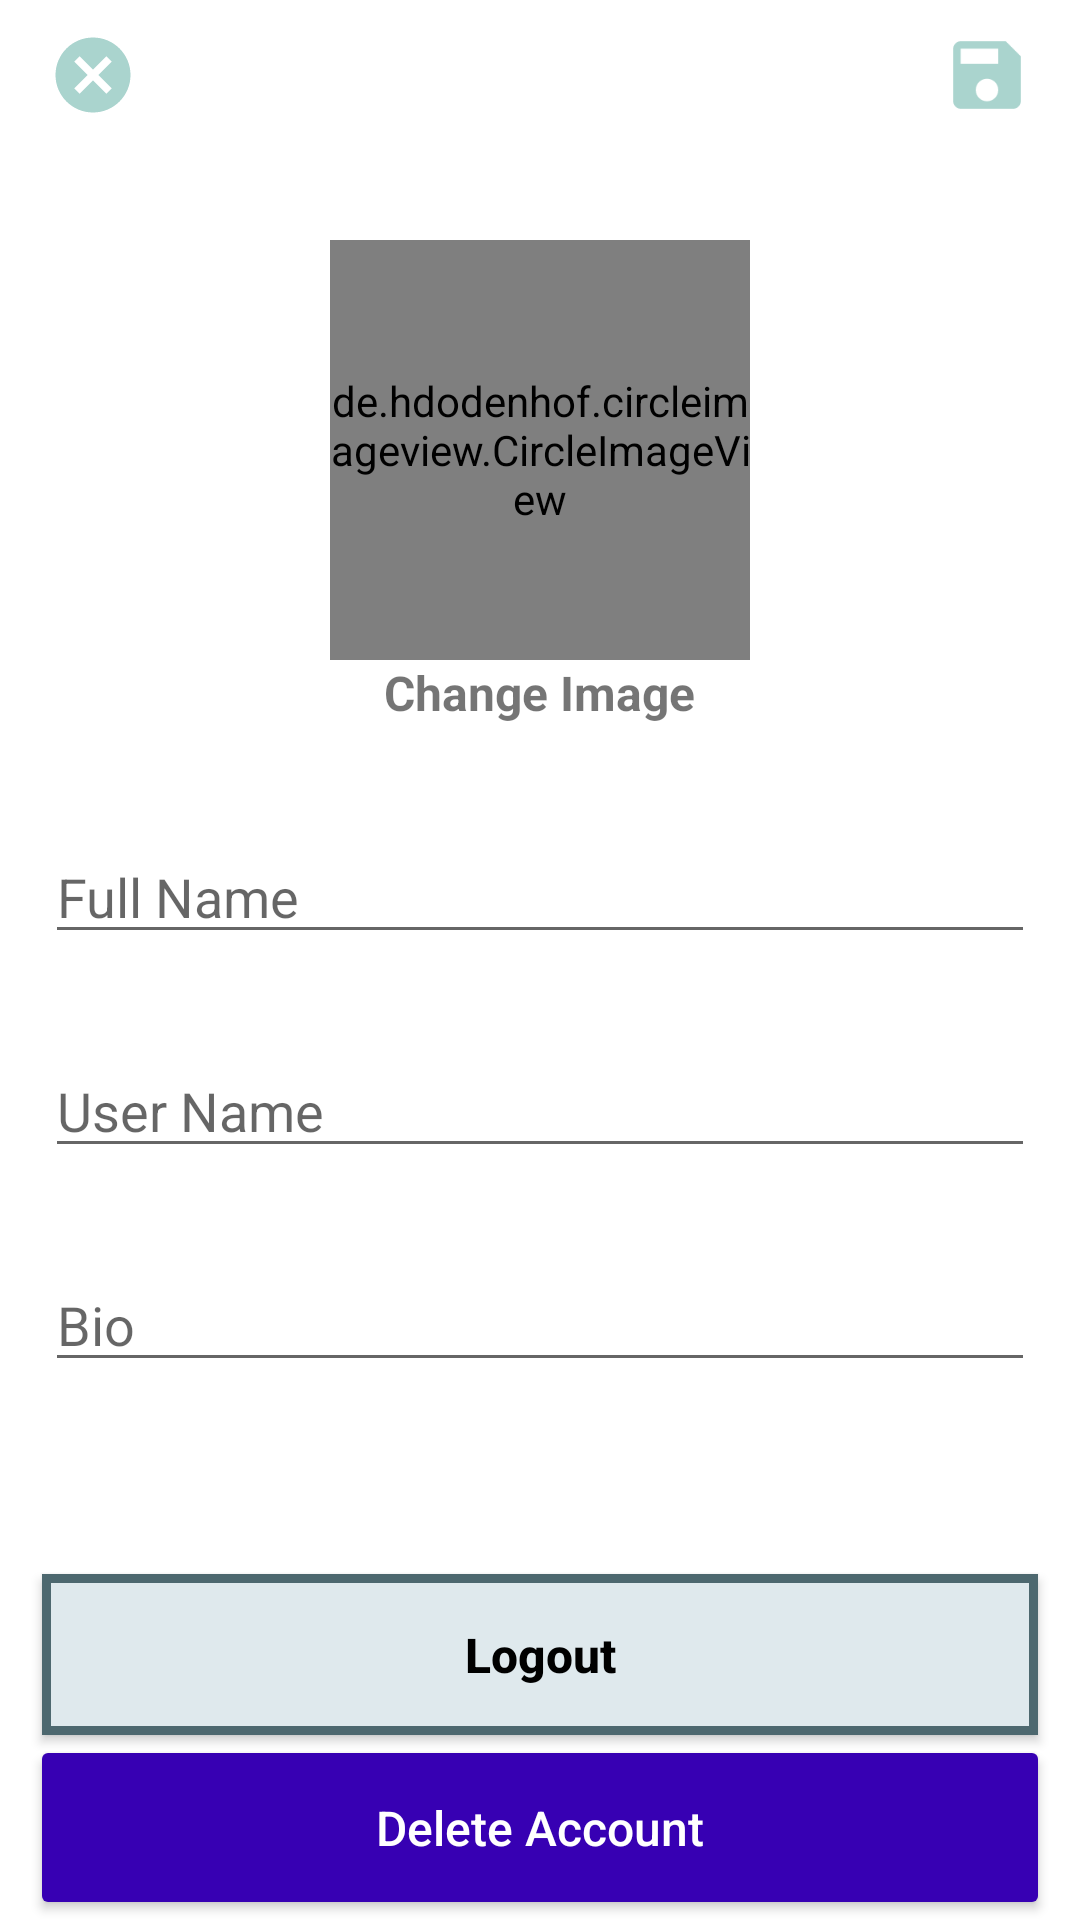

Icons on this 1080 x 1920 Android screen, each with its box as (x1, y1, x2, y2):
cancel: (55, 37, 131, 113)
save: (953, 41, 1021, 109)
